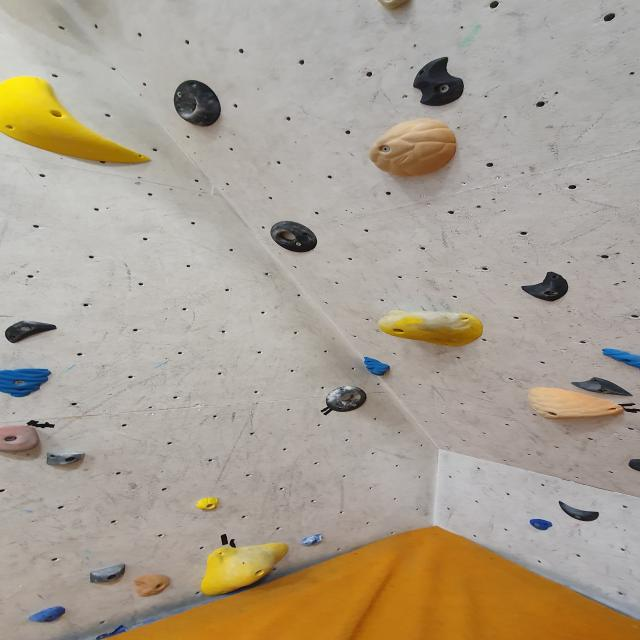Crimp: (0, 368, 52, 396), (2, 319, 57, 342), (601, 349, 640, 370), (27, 605, 68, 623), (362, 356, 390, 377), (528, 519, 554, 532), (301, 534, 325, 546)
Jug: (0, 426, 42, 454)
Pinch: (88, 563, 129, 583), (44, 450, 88, 468)
Pocket: (171, 81, 222, 130), (268, 218, 318, 254), (323, 386, 369, 413)
Sloper: (0, 77, 155, 168), (368, 122, 460, 180), (196, 544, 291, 598), (376, 313, 486, 352), (525, 384, 634, 422), (409, 55, 466, 107), (569, 374, 639, 397), (551, 497, 610, 523), (519, 272, 569, 302), (132, 575, 172, 600), (195, 497, 223, 511)
